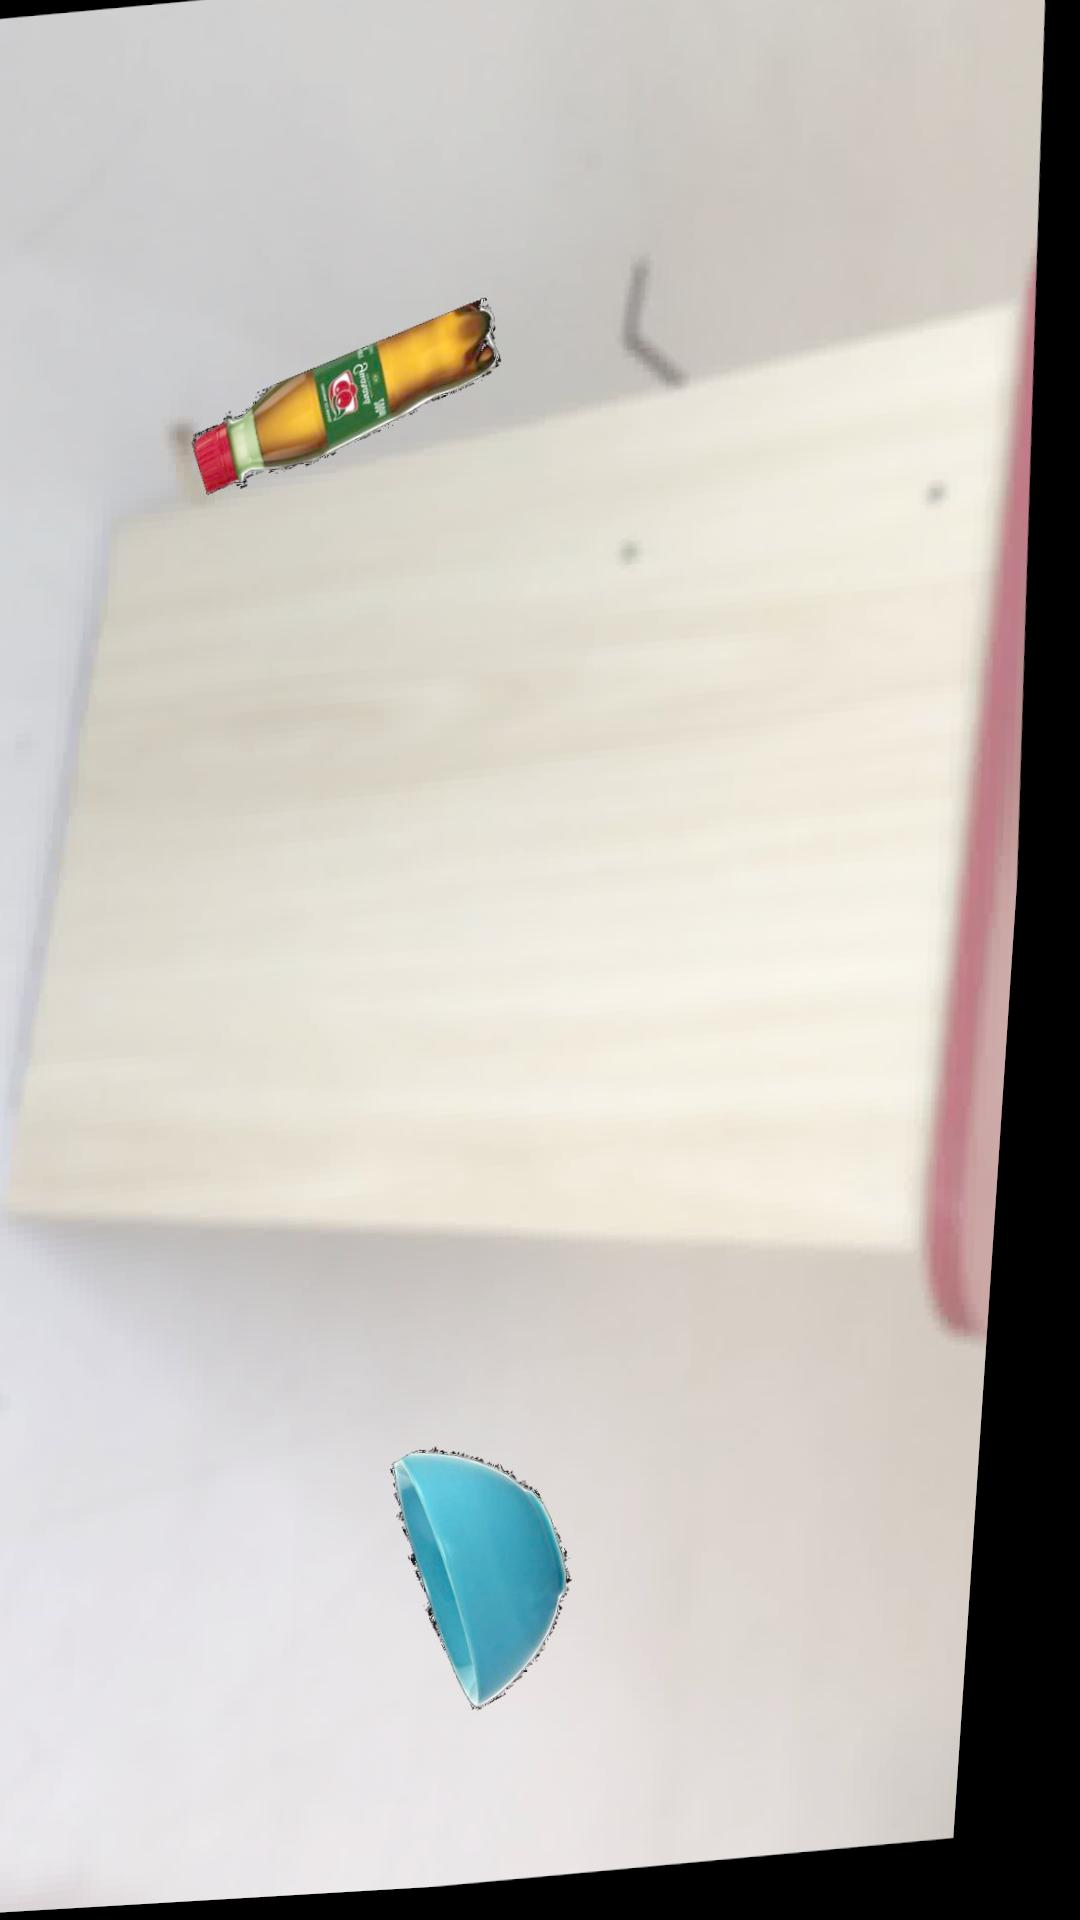bowl: (411, 1455, 592, 1717)
guarana: (195, 305, 504, 498)
